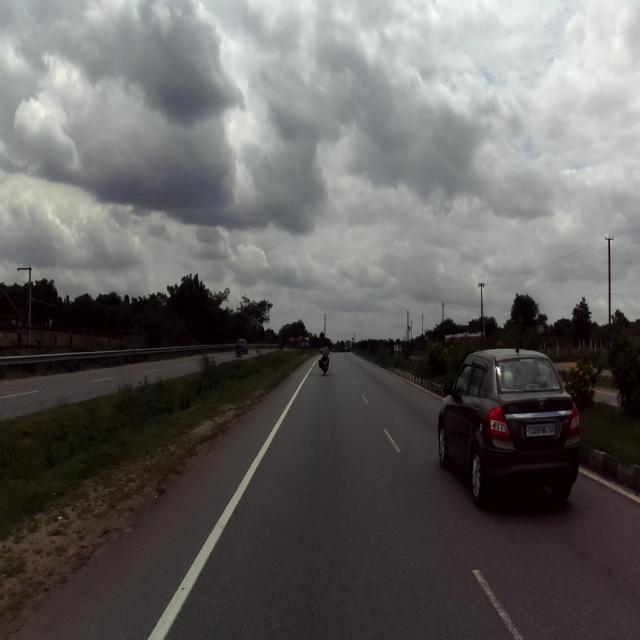Car_Maruti-Suzuki: (435, 341, 582, 506)
motorcycle: (319, 348, 328, 373)
